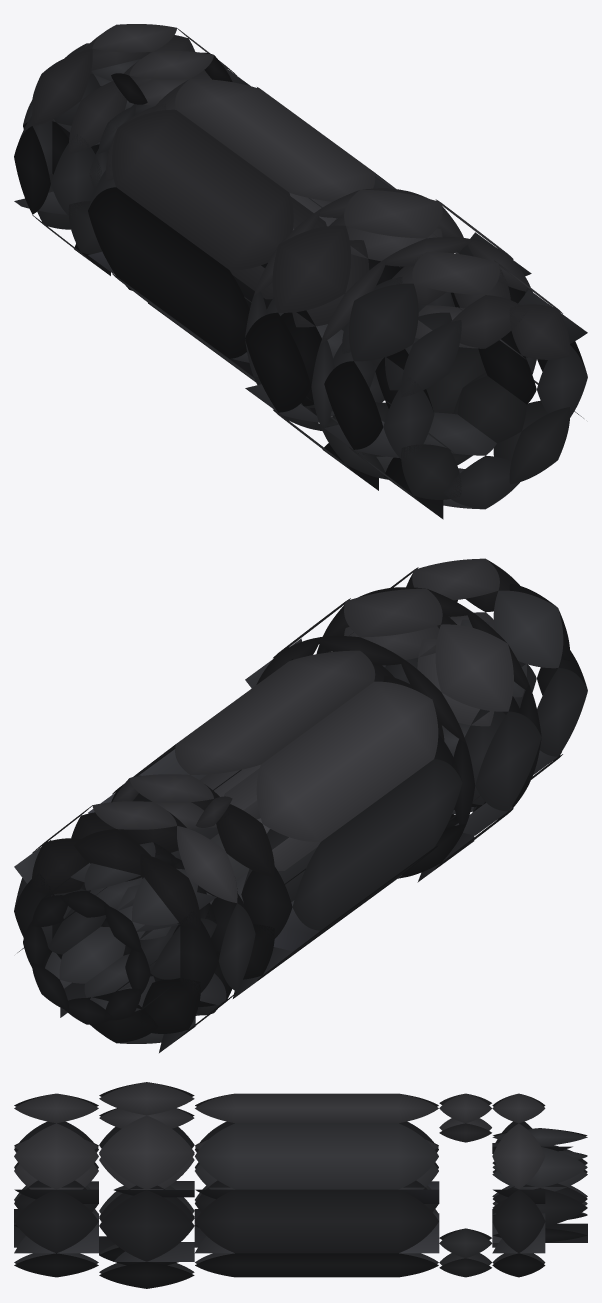
The model's file is ak47_muzzle_compensator.fbx.
The picture shows the model from 3 angles, top to bottom: view 1: azimuth 30°, elevation 25°; view 2: azimuth 150°, elevation 25°; view 3: azimuth 270°, elevation 25°; orthographic projection. The views are drawn at different scales.
Visible parts, largest first — view 1: octagon, octagon_12, octagon_15, octagon_13, octagon_4, octagon_7, octagon_5, octagon_2, octagon_25, octagon_3, octagon_20, octagon_9 (+11 smaller); view 2: octagon, octagon_12, octagon_15, octagon_13, octagon_25, octagon_20, octagon_21, octagon_4, octagon_7, octagon_5, octagon_36, octagon_22 (+14 smaller); view 3: octagon, octagon_16, octagon_17, octagon_13, octagon_10, octagon_8, octagon_9, octagon_26, octagon_2, octagon_27, octagon_22, octagon_23 (+12 smaller).
Part boxes in pixels (bbox=[...]): octagon: bbox=[245, 188, 536, 490]; octagon_12: bbox=[105, 103, 326, 299]; octagon_15: bbox=[88, 164, 283, 362]; octagon_13: bbox=[150, 78, 375, 230]; octagon_4: bbox=[342, 277, 461, 397]; octagon_7: bbox=[324, 335, 434, 464]; octagon_5: bbox=[387, 251, 527, 348]; octagon_2: bbox=[453, 372, 583, 484]; octagon_25: bbox=[14, 116, 101, 220]; octagon_3: bbox=[384, 412, 519, 519]; octagon_20: bbox=[31, 48, 127, 153]; octagon_9: bbox=[478, 331, 587, 417]; octagon: bbox=[245, 587, 541, 882]; octagon_12: bbox=[216, 675, 444, 876]; octagon_15: bbox=[241, 734, 462, 951]; octagon_13: bbox=[175, 650, 394, 828]; octagon_25: bbox=[173, 893, 255, 1005]; octagon_20: bbox=[140, 826, 237, 931]; octagon_21: bbox=[74, 801, 186, 881]; octagon_4: bbox=[460, 583, 570, 697]; octagon_7: bbox=[502, 645, 587, 774]; octagon_5: bbox=[412, 558, 519, 629]; octagon_36: bbox=[32, 918, 131, 1010]; octagon_22: bbox=[112, 774, 232, 828]; octagon: bbox=[99, 1082, 194, 1288]; octagon_16: bbox=[195, 1123, 439, 1203]; octagon_17: bbox=[195, 1180, 438, 1253]; octagon_13: bbox=[195, 1093, 438, 1149]; octagon_10: bbox=[195, 1213, 439, 1277]; octagon_8: bbox=[14, 1123, 98, 1203]; octagon_9: bbox=[14, 1180, 98, 1253]; octagon_26: bbox=[492, 1123, 545, 1203]; octagon_2: bbox=[14, 1213, 98, 1277]; octagon_27: bbox=[492, 1189, 545, 1252]; octagon_22: bbox=[439, 1093, 491, 1142]; octagon_23: bbox=[439, 1228, 491, 1277].
Size of the model in its own units: 7.03 by 7.03 by 21.09.
Materials: 1 (1 with a texture image).
